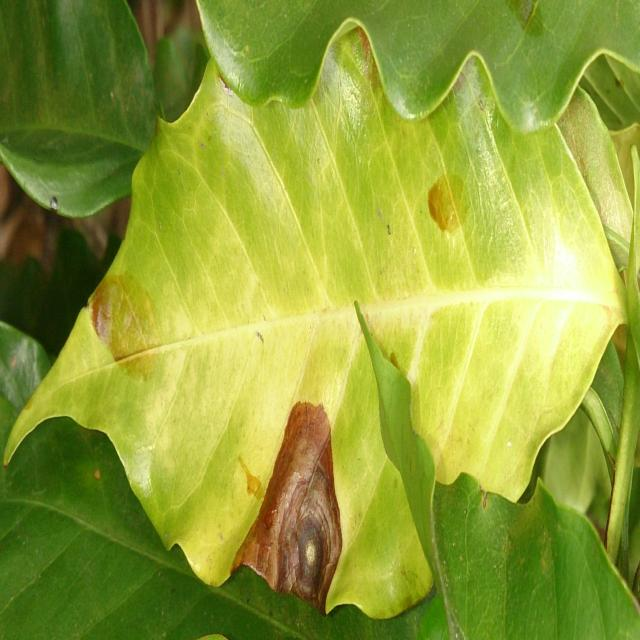Enfermedad-Mancha-de-hierro: (0, 20, 628, 620)
